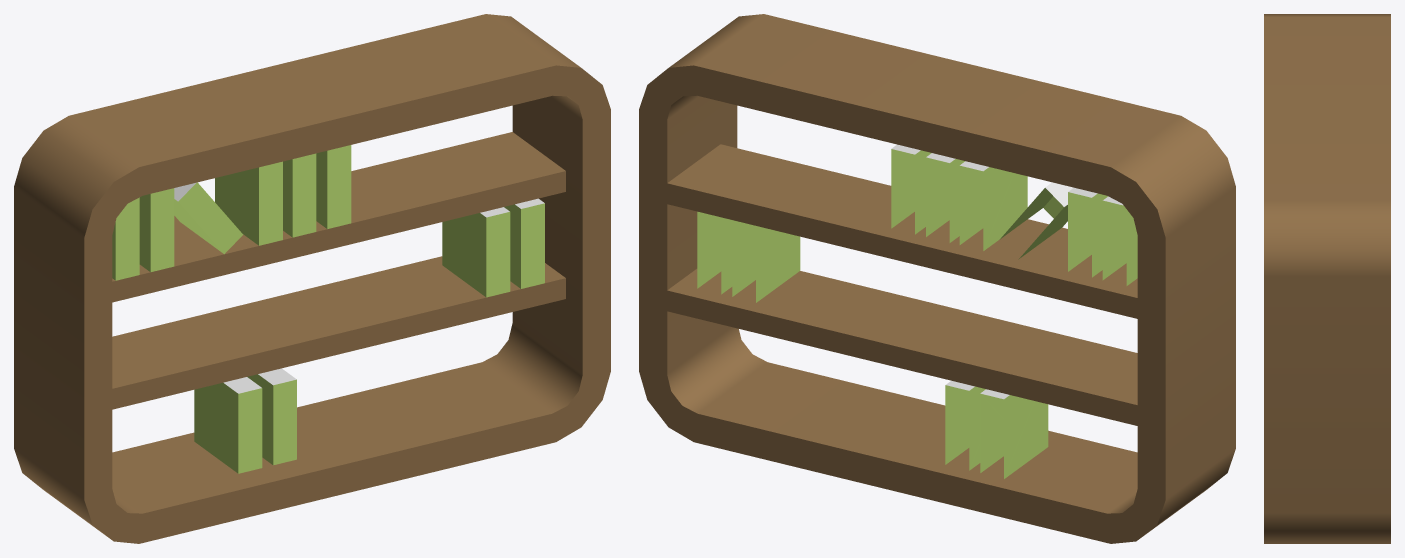
Rendered from closet.fbx.
3 views of the same model, side by side, from view 1: azimuth 30°, elevation 25°; view 2: azimuth 150°, elevation 25°; view 3: azimuth 270°, elevation 25° (orthographic). The views are drawn at different scales.
Visible parts, largest first — view 1: closet; view 2: closet; view 3: closet.
Part boxes in pixels (box(x1,y1,x2,y2)): closet: box(14, 14, 610, 543); closet: box(639, 14, 1235, 543); closet: box(1264, 14, 1390, 543).
Bounding box in the file's own units: 286 × 196 × 66.2.
